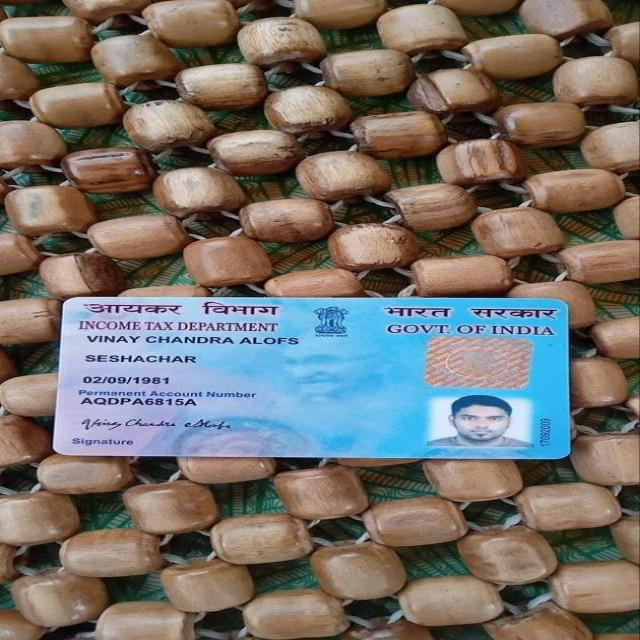pan_card: (51, 296, 572, 458)
